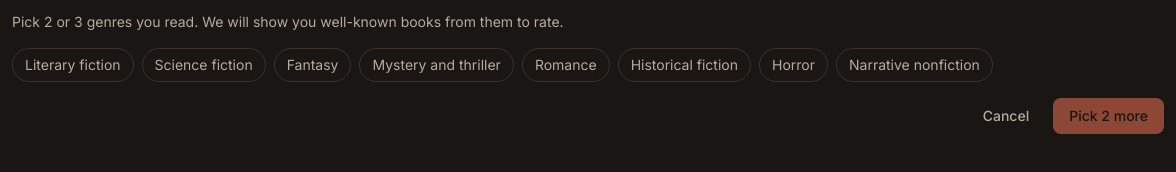
Test: QuickRate › limits the choice to three genres
Click the button "Fantasy". click: (313, 65)
box: [274,48,352,82]
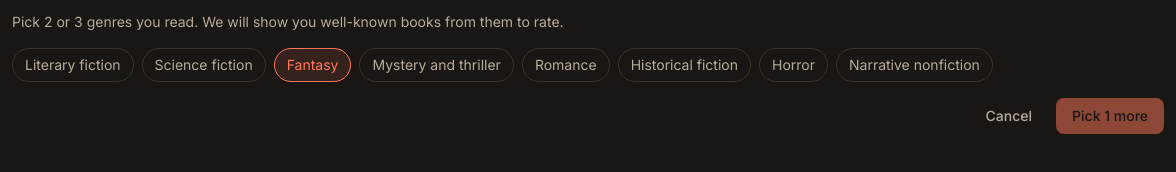
Click the button "Horror". click: (794, 65)
box: [759,48,828,82]
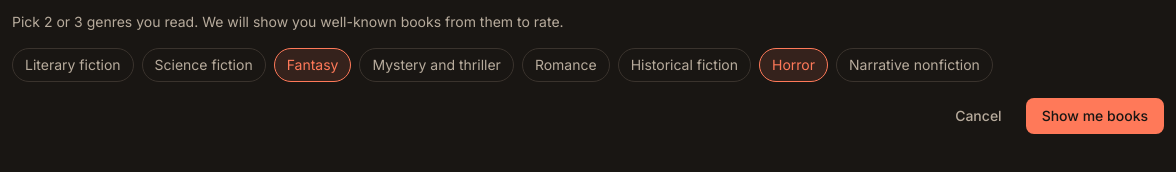
Click the button "Romance". click: (566, 65)
box: [522,48,610,82]
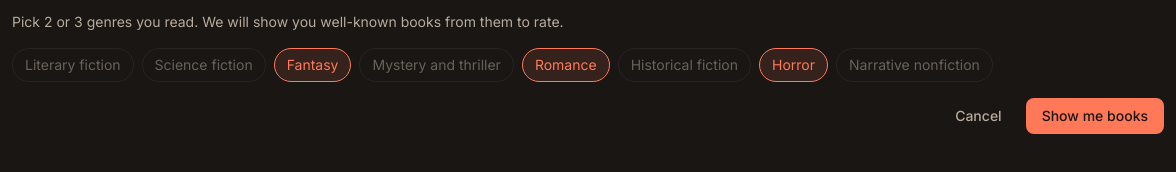
Expected: the button "Science fiction" is disabled, [142,48,266,82]
